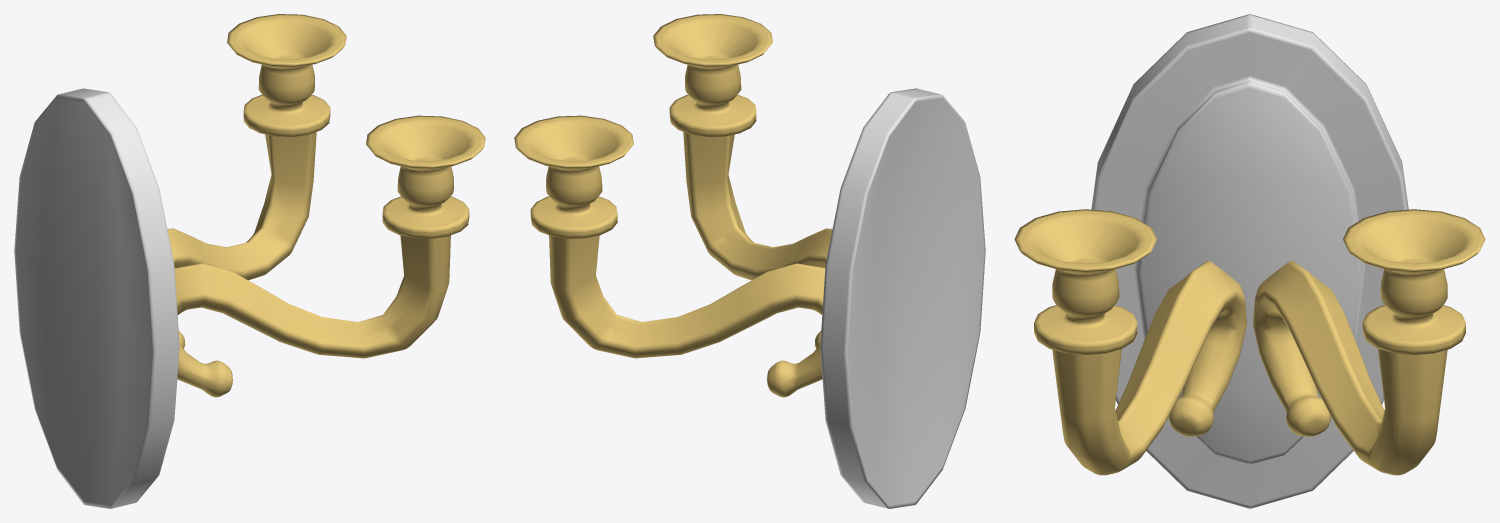
Rendered from wallcandleholder.fbx.
The picture shows the model from 3 angles, left to right: view 1: azimuth 30°, elevation 25°; view 2: azimuth 150°, elevation 25°; view 3: azimuth 270°, elevation 25°; orthographic projection. The views are drawn at different scales.
Visible parts, largest first — view 1: Cylinder; view 2: Cylinder; view 3: Cylinder.
Part boxes in pixels (x1,y1,x2,y2): Cylinder: (14, 14, 485, 508); Cylinder: (514, 14, 985, 508); Cylinder: (1014, 14, 1485, 508).
Bounding box in the file's own units: 23.16 × 27.67 × 24.62.
